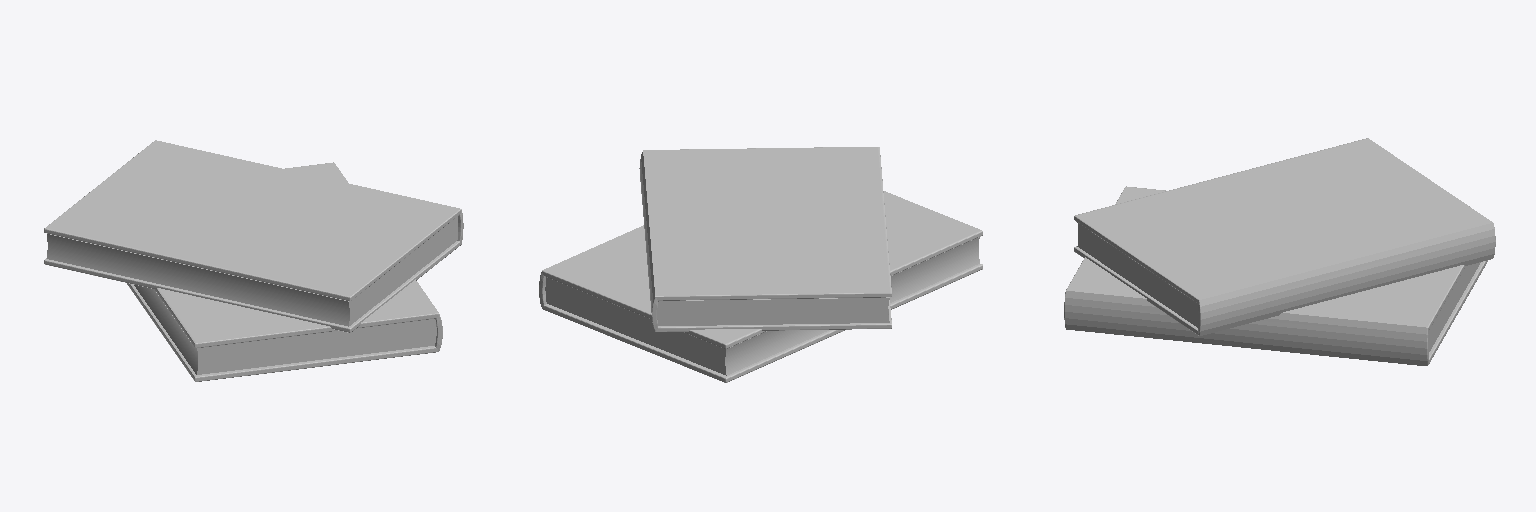
The model's file is libros.obj.
3 renders of one model, left to right at view 1: azimuth 30°, elevation 25°; view 2: azimuth 150°, elevation 25°; view 3: azimuth 270°, elevation 25°, orthographic.
Parts seen in each view (by area): view 1: Decorative_set_2_053.008, Decorative_set_2_057.008, Decorative_set_2_053.007, Decorative_set_2_057.007; view 2: Decorative_set_2_053.008, Decorative_set_2_053.007, Decorative_set_2_057.007, Decorative_set_2_057.008; view 3: Decorative_set_2_053.008, Decorative_set_2_053.007, Decorative_set_2_057.008, Decorative_set_2_057.007.
Part boxes in pixels (x1,y1,x2,y2): Decorative_set_2_053.008: (44,140,463,332); Decorative_set_2_057.008: (47,216,457,326); Decorative_set_2_053.007: (127,162,442,381); Decorative_set_2_057.007: (134,285,436,374); Decorative_set_2_053.008: (639,147,891,331); Decorative_set_2_053.007: (539,191,982,382); Decorative_set_2_057.007: (545,237,979,375); Decorative_set_2_057.008: (657,297,889,325); Decorative_set_2_053.008: (1074,138,1495,335); Decorative_set_2_053.007: (1064,186,1487,365); Decorative_set_2_057.008: (1077,222,1197,327); Decorative_set_2_057.007: (1429,262,1480,351).
Size of the model in its own units: 0.2341 by 0.0484 by 0.2604.